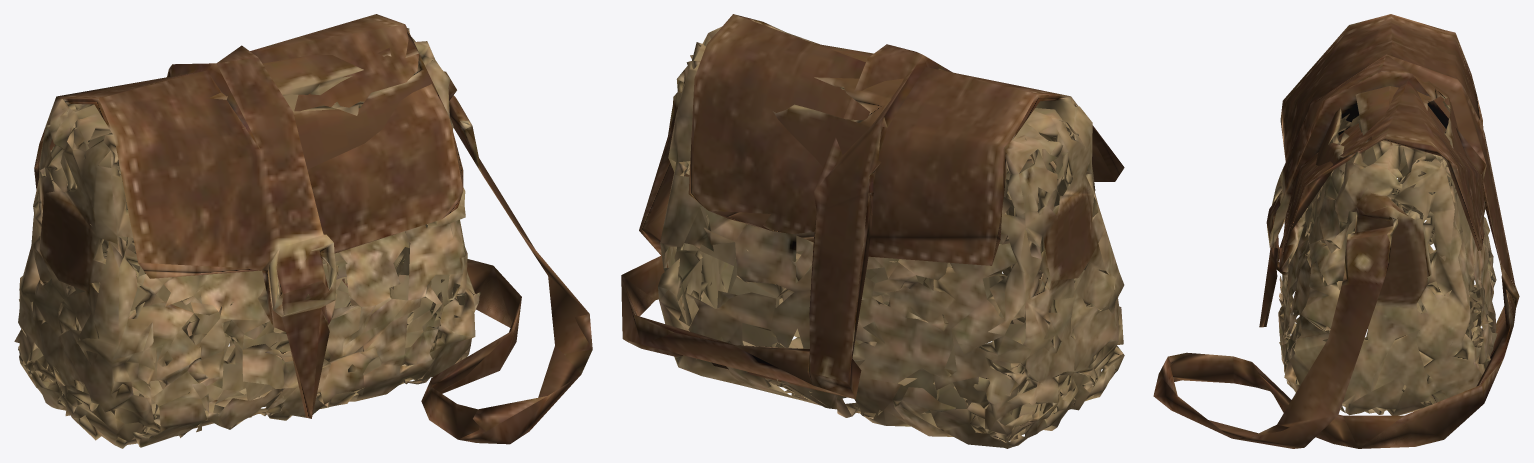
The model's file is satchel.glb.
3 views of the same model, side by side, from view 1: azimuth 30°, elevation 25°; view 2: azimuth 150°, elevation 25°; view 3: azimuth 270°, elevation 25° (orthographic). The views are drawn at different scales.
Parts seen in each view (by area): view 1: Mesh0; view 2: Mesh0; view 3: Mesh0.
Part boxes in pixels (left/top/right/bottom): Mesh0: left=14, top=14, right=592, bottom=448; Mesh0: left=621, top=14, right=1124, bottom=448; Mesh0: left=1153, top=14, right=1519, bottom=448.
Size of the model in its own units: 0.36 by 0.236 by 0.2802.
1 material, 1 textured.
